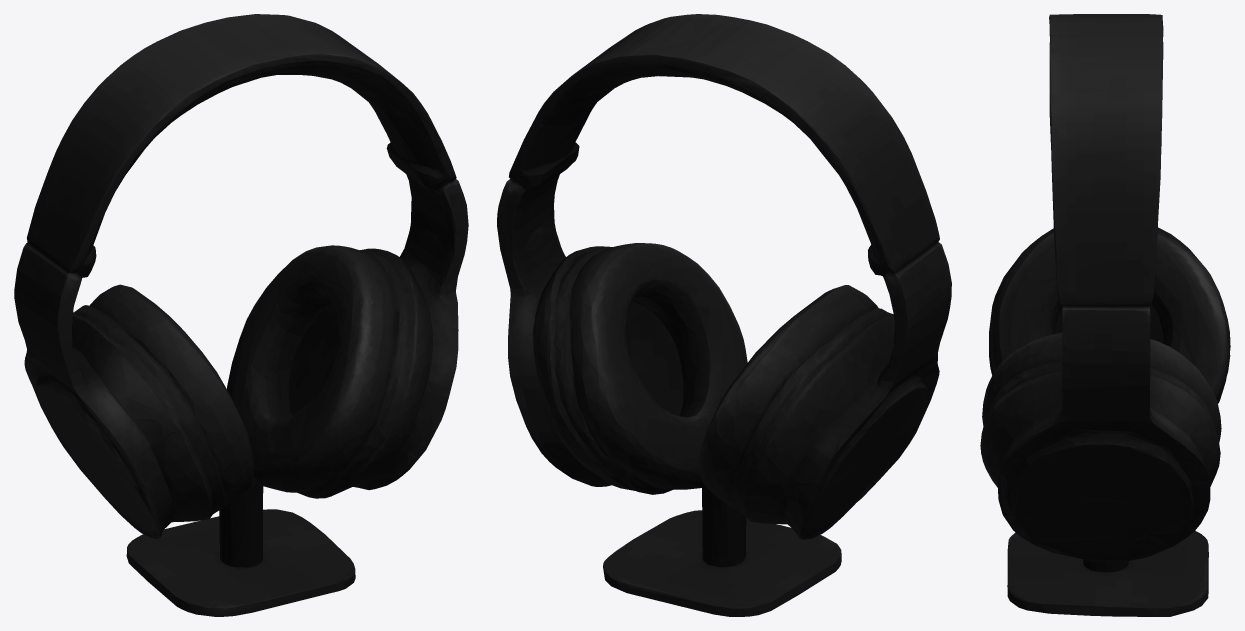
The model's file is headphones_black_2.glb.
3 renders of one model, left to right at view 1: azimuth 30°, elevation 25°; view 2: azimuth 150°, elevation 25°; view 3: azimuth 270°, elevation 25°, orthographic.
Parts seen in each view (by area): view 1: geometry_0; view 2: geometry_0; view 3: geometry_0.
Part boxes in pixels (x1,y1,x2,y2): geometry_0: (14,14,468,616); geometry_0: (497,14,951,616); geometry_0: (980,14,1230,616).
Bounding box in the file's own units: 0.8159 × 1 × 0.4238.
1 material, 1 textured.
